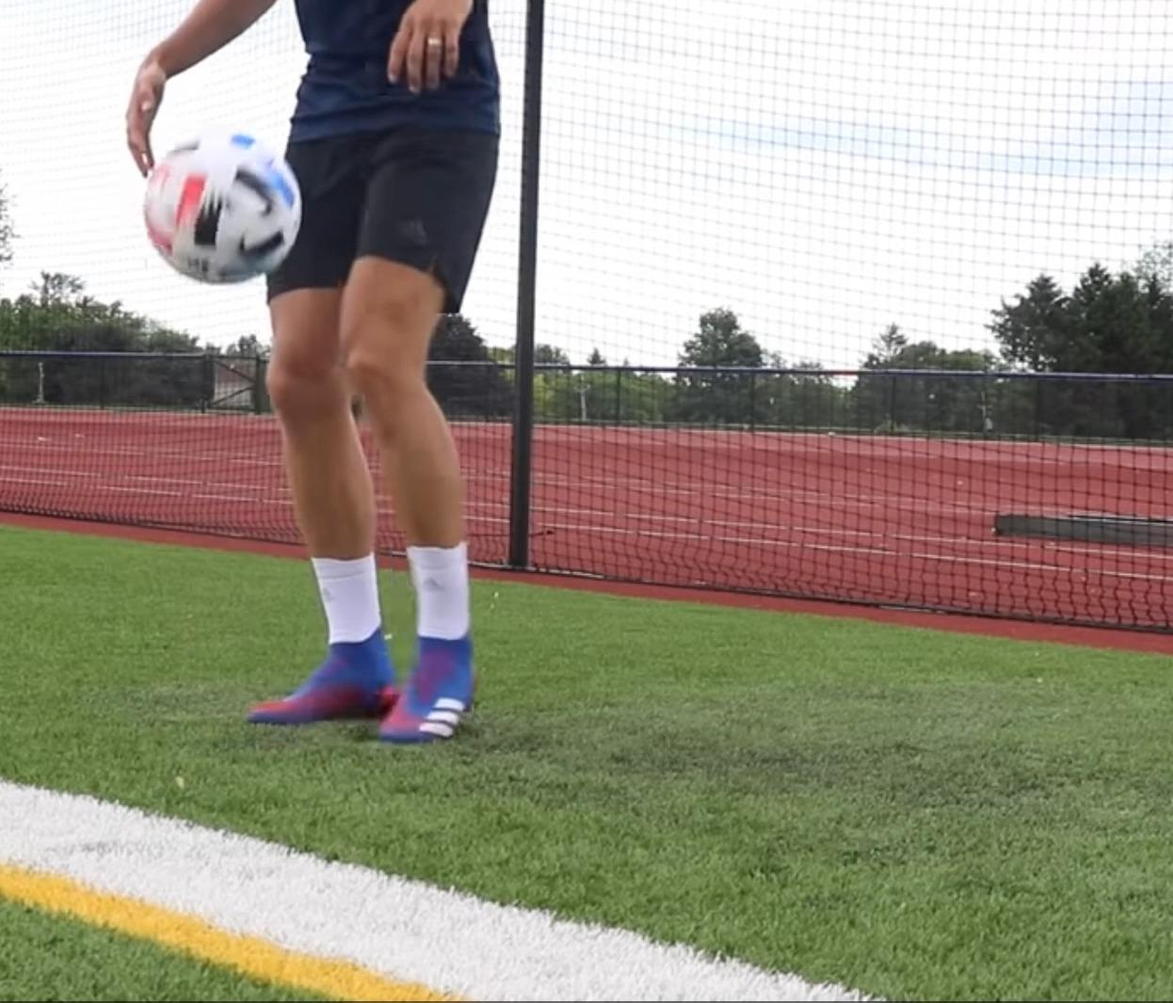ball: (138, 132, 301, 282)
foot: (243, 641, 402, 732), (380, 641, 477, 746)
person: (123, 0, 503, 742)
